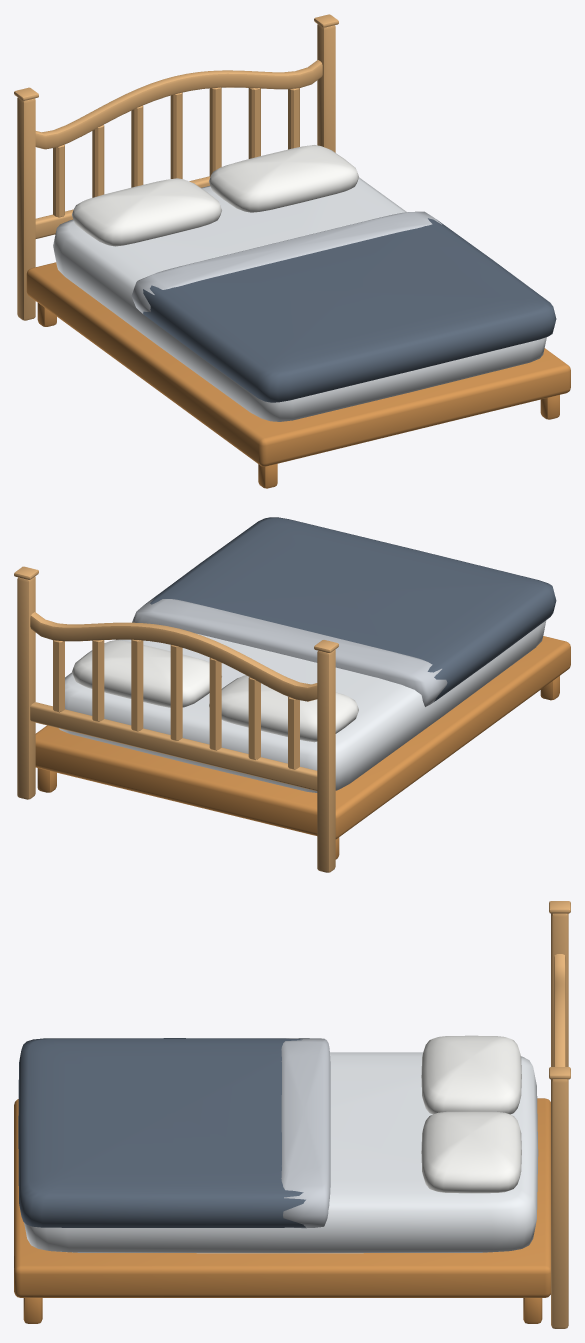
File: cama_casal_grade_arco_madeira.glb
3 views of the same model, one above another, from view 1: azimuth 30°, elevation 25°; view 2: azimuth 150°, elevation 25°; view 3: azimuth 270°, elevation 25° (orthographic). The views are drawn at different scales.
Visible parts, largest first — view 1: cama_casal_grade_arco_madeira; view 2: cama_casal_grade_arco_madeira; view 3: cama_casal_grade_arco_madeira.
Boxes of the visible parts, bbox=[...] form: cama_casal_grade_arco_madeira: bbox=[14, 14, 570, 488]; cama_casal_grade_arco_madeira: bbox=[14, 517, 570, 872]; cama_casal_grade_arco_madeira: bbox=[14, 901, 570, 1328].
Bounding box in the file's own units: 1.53 × 1.04 × 2.05.
1 material, 1 textured.
